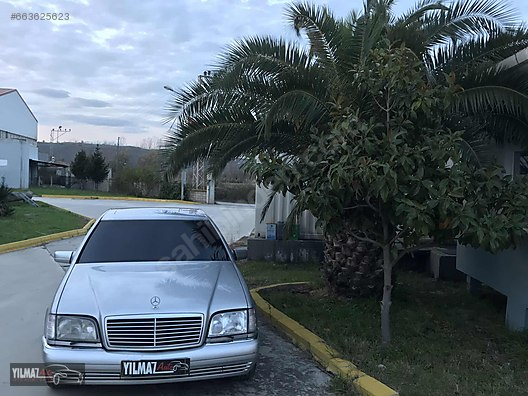mercedes: (41, 203, 261, 392)
